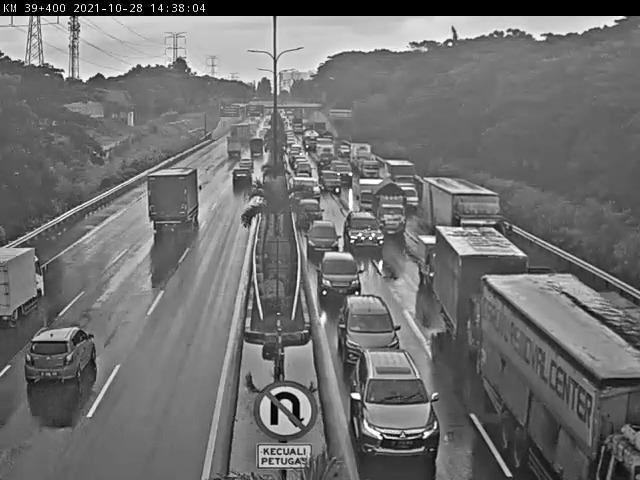big truck: (463, 268, 640, 480), (427, 220, 529, 364), (418, 169, 508, 236), (133, 167, 205, 247)
car: (345, 338, 442, 450), (23, 315, 104, 399), (332, 292, 405, 362), (312, 245, 364, 303), (333, 204, 381, 253), (301, 217, 345, 266), (411, 234, 442, 298), (392, 178, 422, 210), (297, 198, 323, 232), (226, 162, 254, 191), (232, 159, 260, 176)
small truck: (0, 244, 58, 318), (368, 178, 411, 237), (218, 134, 244, 162), (246, 136, 265, 161)
